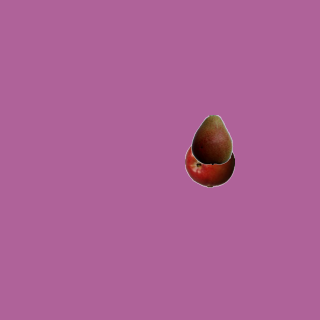Apple Braeburn: (184, 137, 234, 187)
Pear Forelle: (186, 114, 236, 164)
